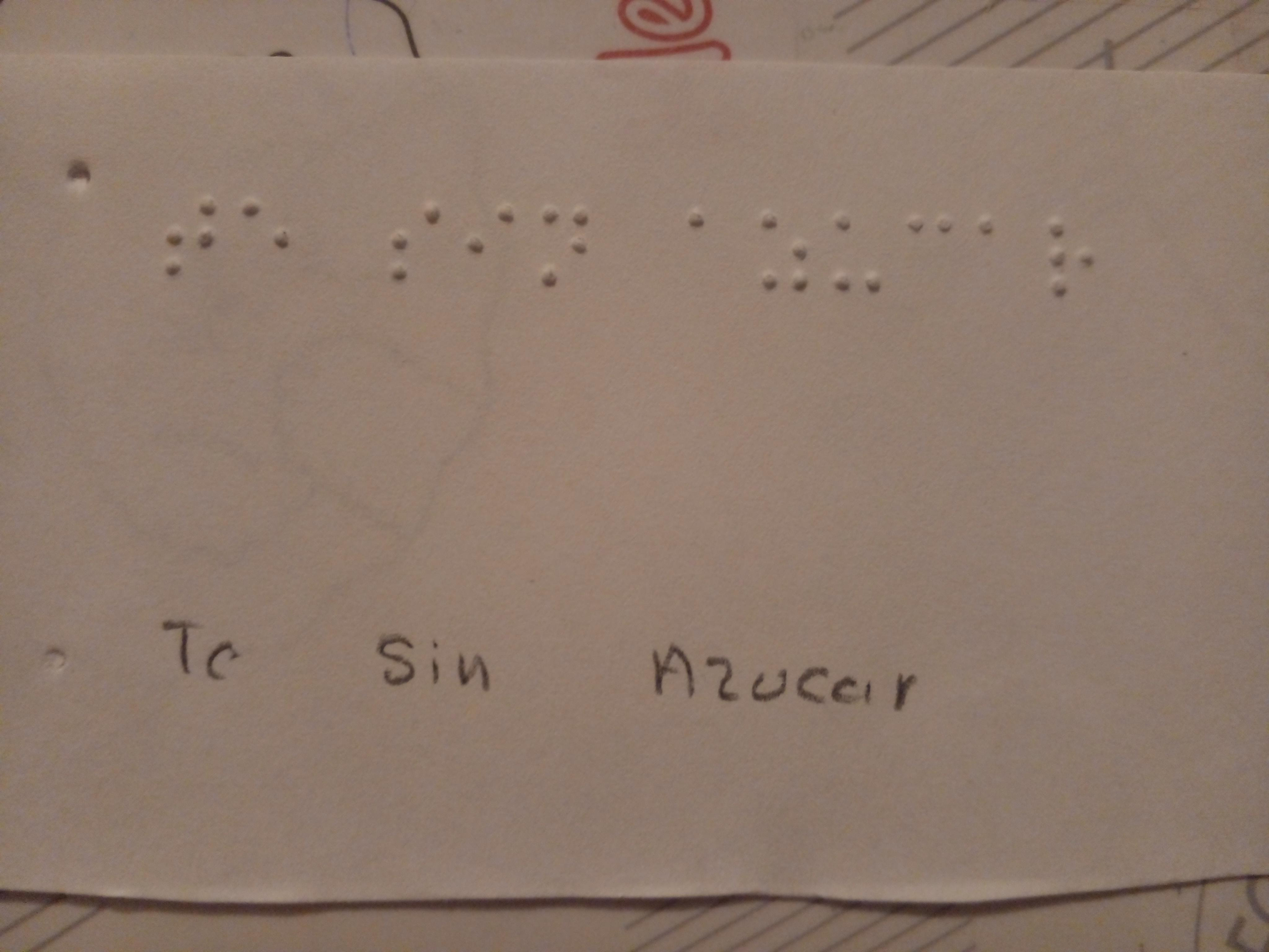a: (658, 184, 727, 273), (965, 201, 1013, 277)
c: (897, 192, 957, 299)
e: (243, 186, 302, 284)
i: (451, 184, 524, 298)
n: (531, 194, 598, 294)
r: (1022, 205, 1112, 316)
s: (366, 187, 446, 313)
t: (143, 177, 231, 285)
u: (829, 203, 885, 307)
z: (745, 205, 821, 304)
